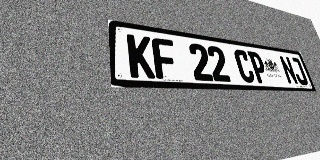2: (188, 42, 214, 81), (206, 45, 231, 82)
C: (233, 49, 256, 83)
F: (151, 37, 179, 80)
J: (289, 57, 309, 85)
K: (127, 34, 155, 79)
N: (278, 55, 299, 85)
P: (247, 51, 270, 84)
